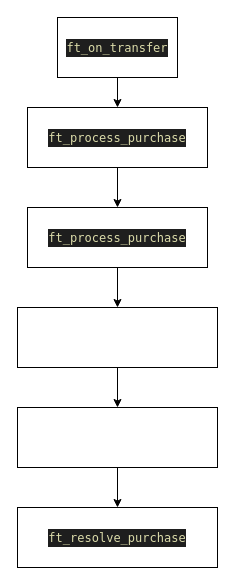
Image size: 235x585. Some labels were removed from this diagram. The shapes that lost their labels are listed below. From the top down, each one's centre as x and y in pixels, then its label:
point (117, 337): internal_remove_sale_nft
point (117, 437): nft_transfer_payout
